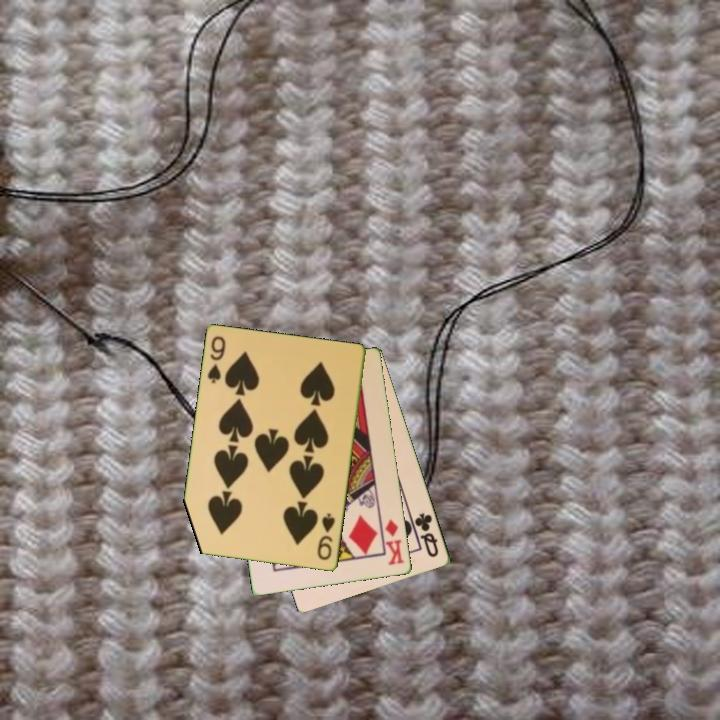9s: (204, 333, 229, 386), (314, 510, 338, 563)
Kd: (382, 516, 407, 568)
Qc: (411, 509, 442, 561)
